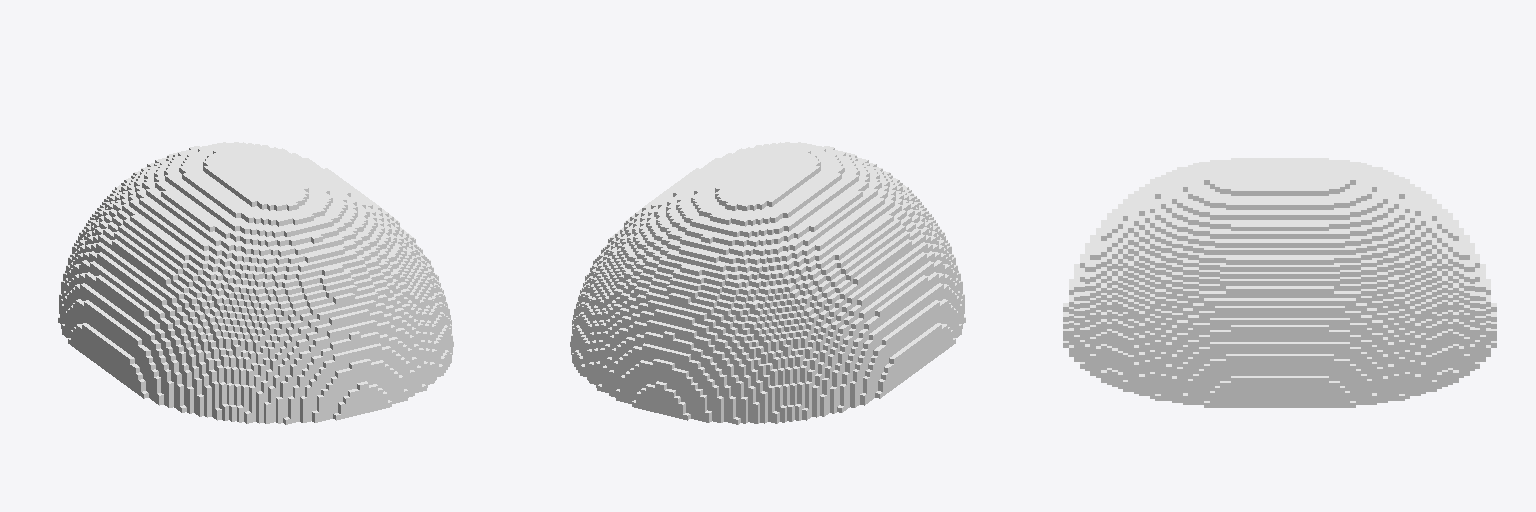
File: авы.obj
The picture shows the model from 3 angles: view 1: azimuth 30°, elevation 25°; view 2: azimuth 150°, elevation 25°; view 3: azimuth 270°, elevation 25°; orthographic projection.
Parts seen in each view (by area): view 1: object 1; view 2: object 1; view 3: object 1.
Part boxes in pixels (x1,y1,x2,y2): object 1: (58, 142, 453, 424); object 1: (570, 142, 965, 424); object 1: (1063, 158, 1496, 407).
Bounding box in the file's own units: 6.4 × 3.2 × 8.